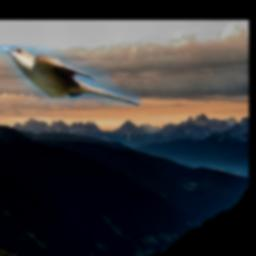Cuckoo: (0, 45, 141, 106)
